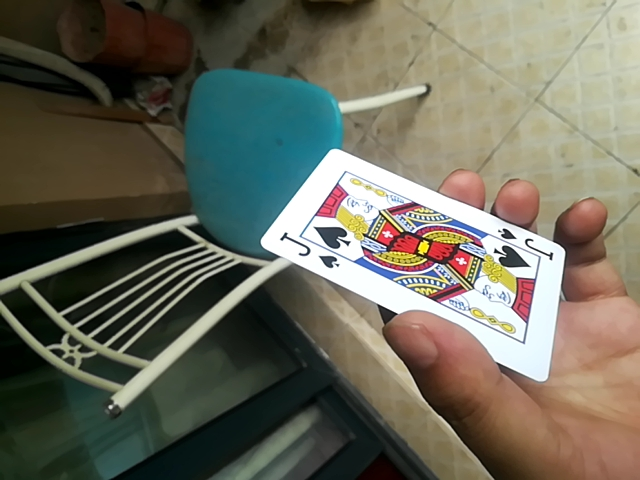ht j: (256, 152, 568, 377)
